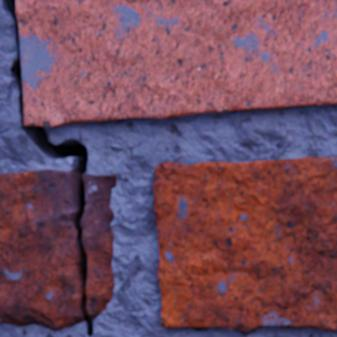brick: (16, 0, 336, 127), (153, 157, 336, 330)
broken_brick: (0, 170, 84, 330), (80, 174, 116, 319)
crack: (0, 0, 92, 336), (100, 181, 110, 188)
